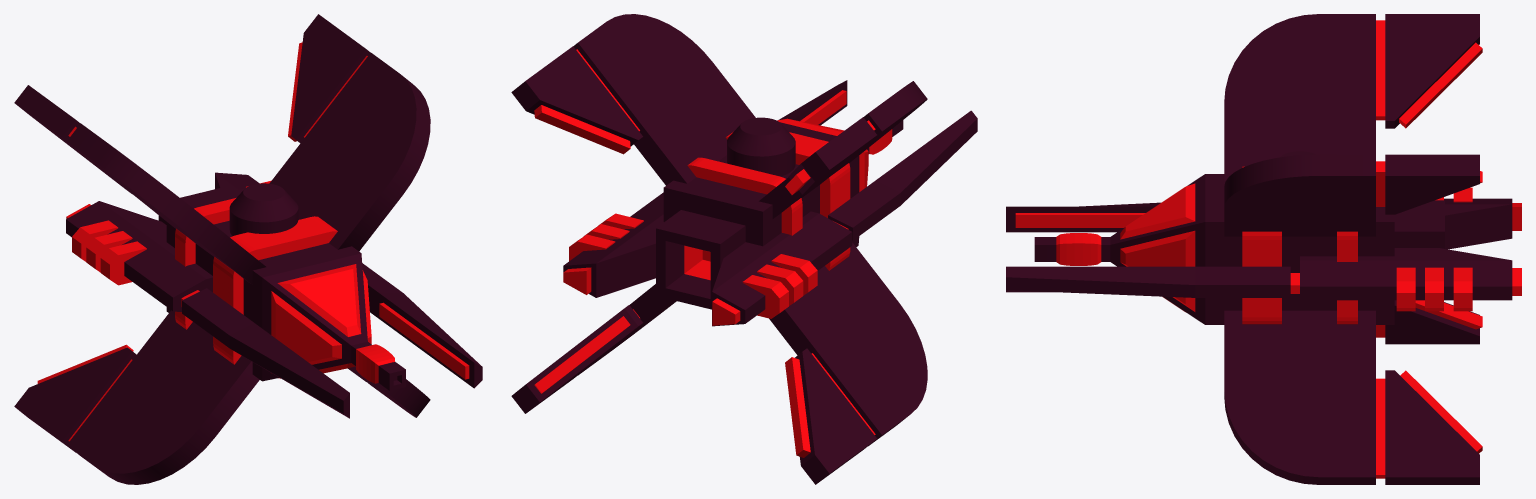
File: QuickLittleSpaceshipModel.fbx
3 renders of one model, left to right at view 1: azimuth 30°, elevation 25°; view 2: azimuth 150°, elevation 25°; view 3: azimuth 270°, elevation 25°, orthographic.
Parts seen in each view (by area): view 1: Cube; view 2: Cube; view 3: Cube.
Boxes of the visible parts, bbox=[...] form: Cube: bbox=[14, 14, 482, 484]; Cube: bbox=[511, 14, 977, 484]; Cube: bbox=[1006, 14, 1521, 484].
Size of the model in its own units: 3.85 by 3.85 by 5.44.
